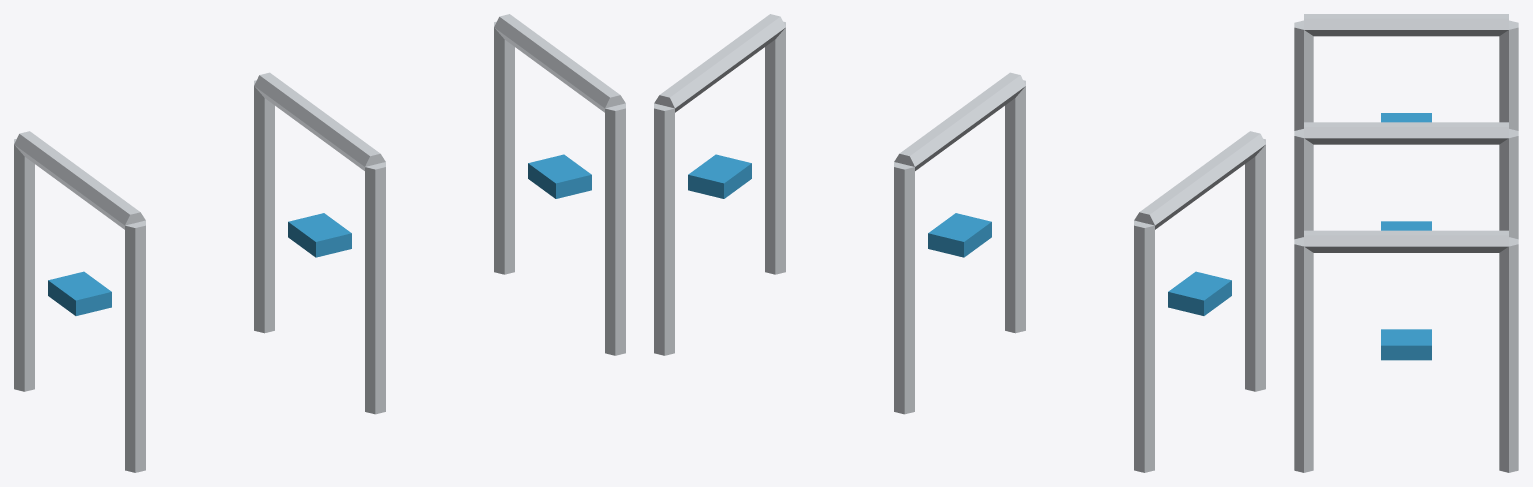
Rendered from cycle_rack.glb.
3 renders of one model, left to right at view 1: azimuth 30°, elevation 25°; view 2: azimuth 150°, elevation 25°; view 3: azimuth 270°, elevation 25°, orthographic. The views are drawn at different scales.
Parts seen in each view (by area): view 1: cycle-rack-steel, cycle-rack-azure; view 2: cycle-rack-steel, cycle-rack-azure; view 3: cycle-rack-steel, cycle-rack-azure.
Boxes of the visible parts, x1,y1,x2,y2 form: cycle-rack-steel: (14, 14, 625, 472); cycle-rack-azure: (48, 154, 591, 315); cycle-rack-steel: (654, 14, 1265, 472); cycle-rack-azure: (688, 154, 1231, 315); cycle-rack-steel: (1294, 14, 1518, 472); cycle-rack-azure: (1381, 113, 1431, 360).
Bounding box in the file's own units: 1.72 × 0.8102 × 0.7005.
